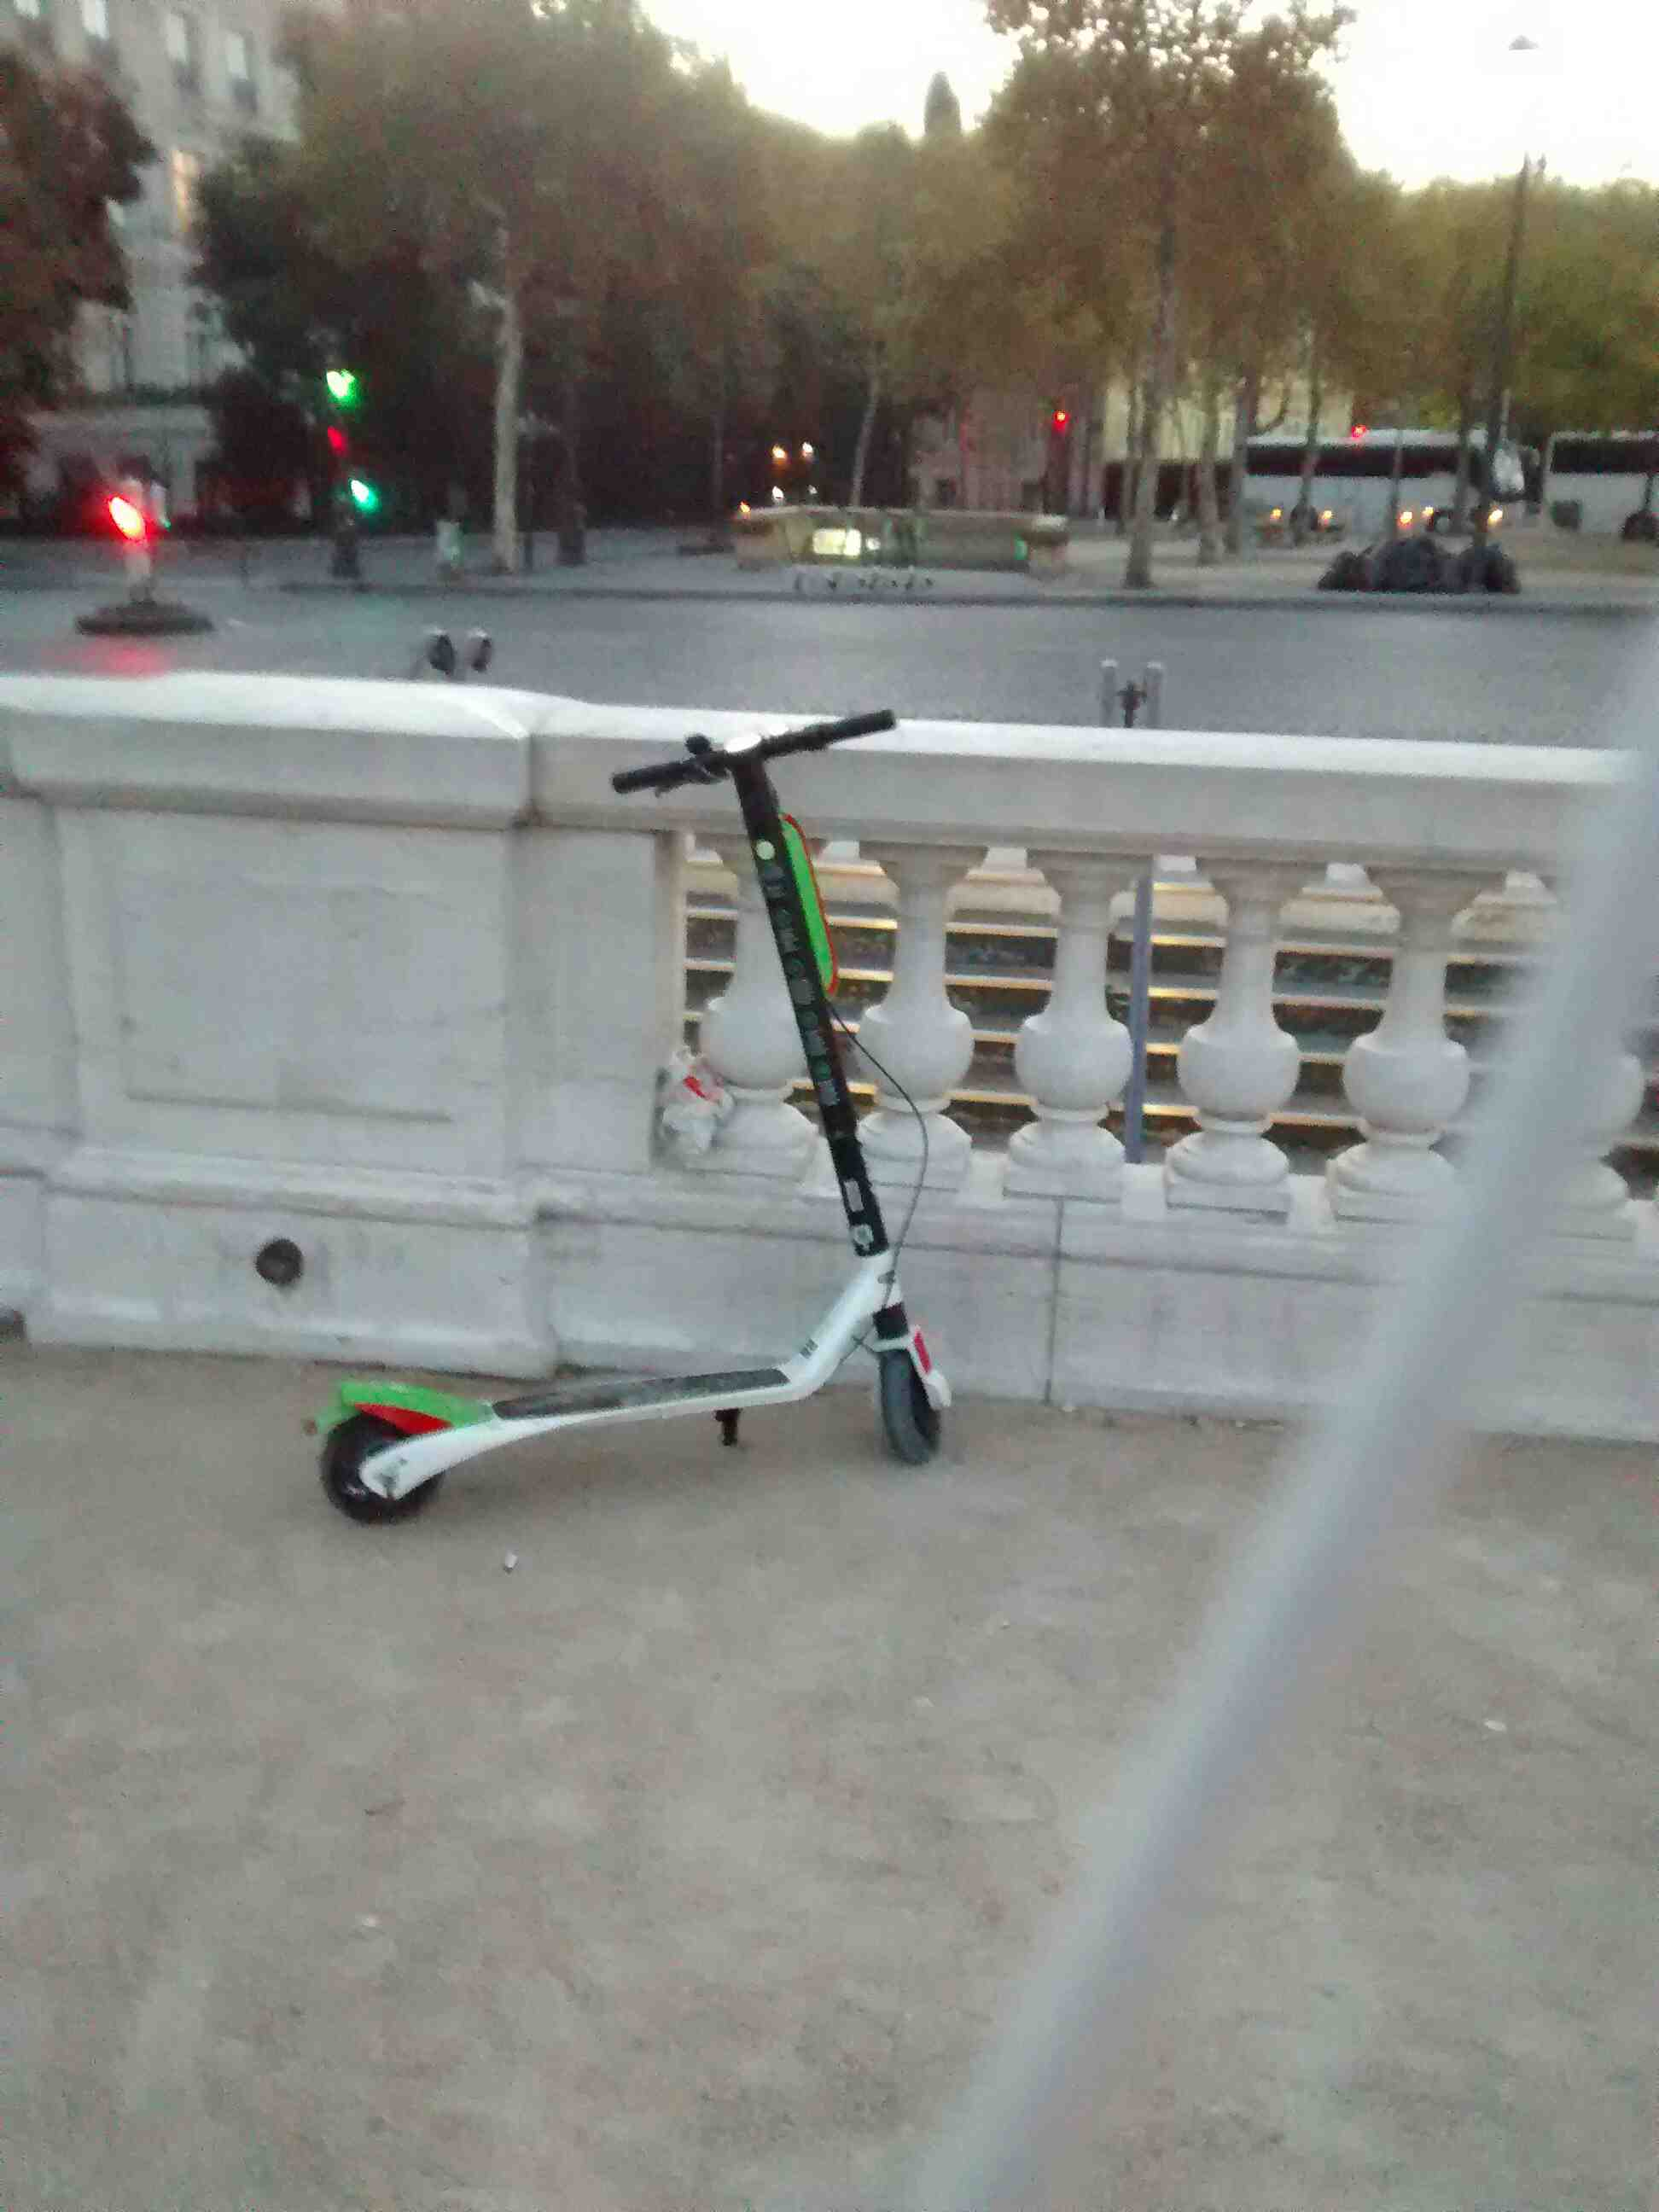scooter: (286, 665, 1004, 1576)
